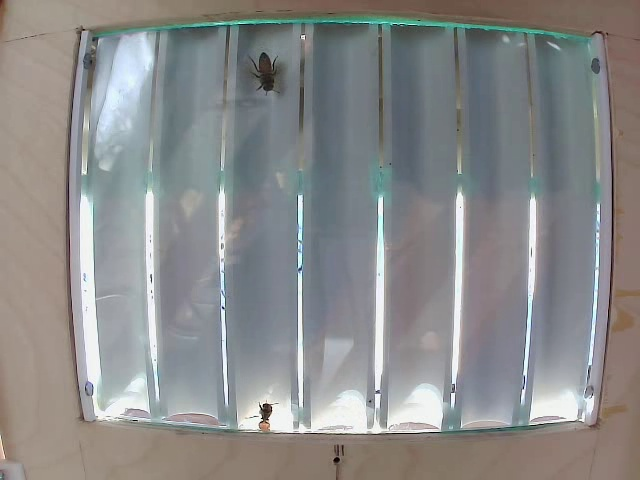bee: (246, 47, 293, 106)
